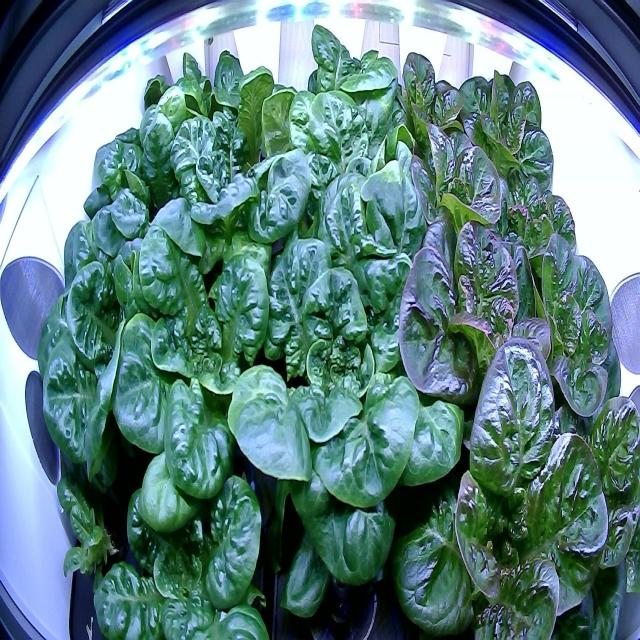Ready: (223, 233, 476, 628), (376, 338, 608, 640), (99, 238, 319, 530), (29, 218, 211, 500), (74, 411, 284, 638), (127, 110, 318, 341), (385, 202, 557, 426), (259, 74, 431, 282), (482, 226, 626, 436), (532, 392, 639, 637), (268, 17, 411, 195), (53, 119, 190, 297), (161, 44, 306, 204), (95, 46, 228, 205), (466, 146, 582, 314), (446, 60, 558, 216), (393, 111, 510, 259), (374, 40, 474, 176)
